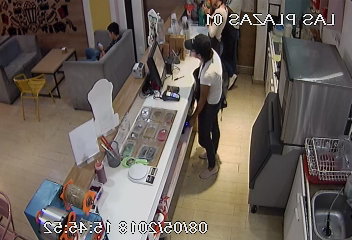ocupado: (1, 18, 129, 118)
